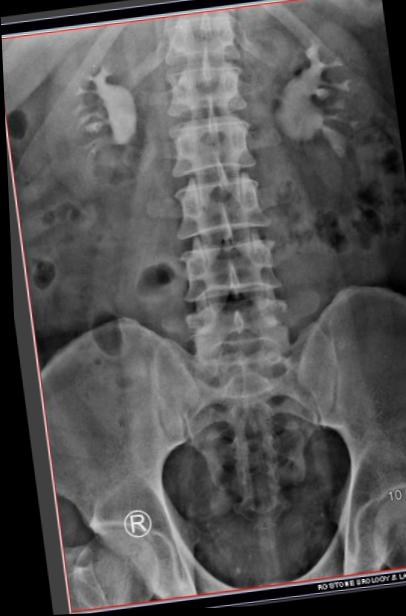left kidney: (260, 6, 391, 209)
right kidney: (12, 32, 144, 211)
vertebrae: (150, 54, 243, 122)
